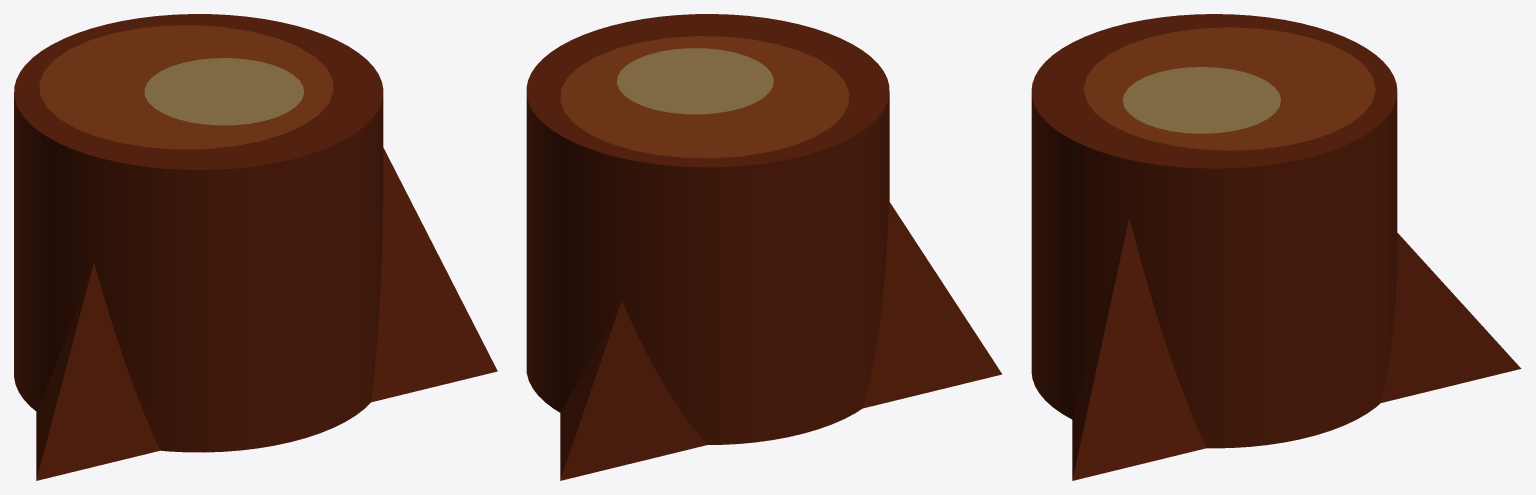
File: tree-stump.obj
The picture shows the model from 3 angles, left to right: view 1: azimuth 30°, elevation 25°; view 2: azimuth 150°, elevation 25°; view 3: azimuth 270°, elevation 25°; orthographic projection.
Size of the model in its own units: 1.8 by 1.06 by 1.68.
3 materials, 3 textured.
